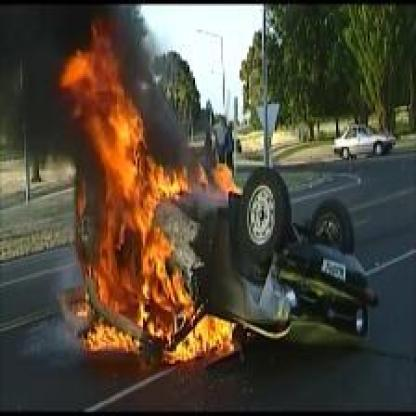fire: (49, 32, 254, 367)
smoke: (0, 0, 195, 160)
